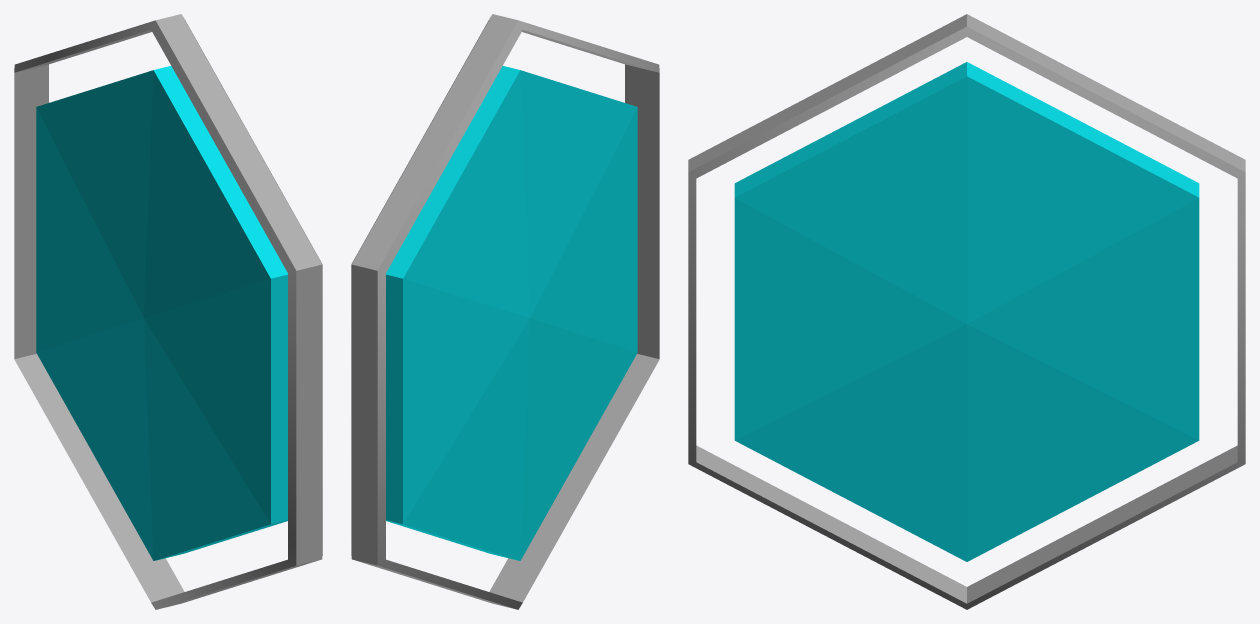
File: SM_Receptacle_vie.fbx
The picture shows the model from 3 angles, left to right: view 1: azimuth 30°, elevation 25°; view 2: azimuth 150°, elevation 25°; view 3: azimuth 270°, elevation 25°; orthographic projection.
Visible parts, largest first — view 1: polySurface1; view 2: polySurface1; view 3: polySurface1.
Boxes of the visible parts, x1,y1,x2,y2 form: polySurface1: (14,14,322,609); polySurface1: (351,14,659,609); polySurface1: (688,14,1245,609).
Size of the model in its own units: 0.1757 by 2 by 1.73.
